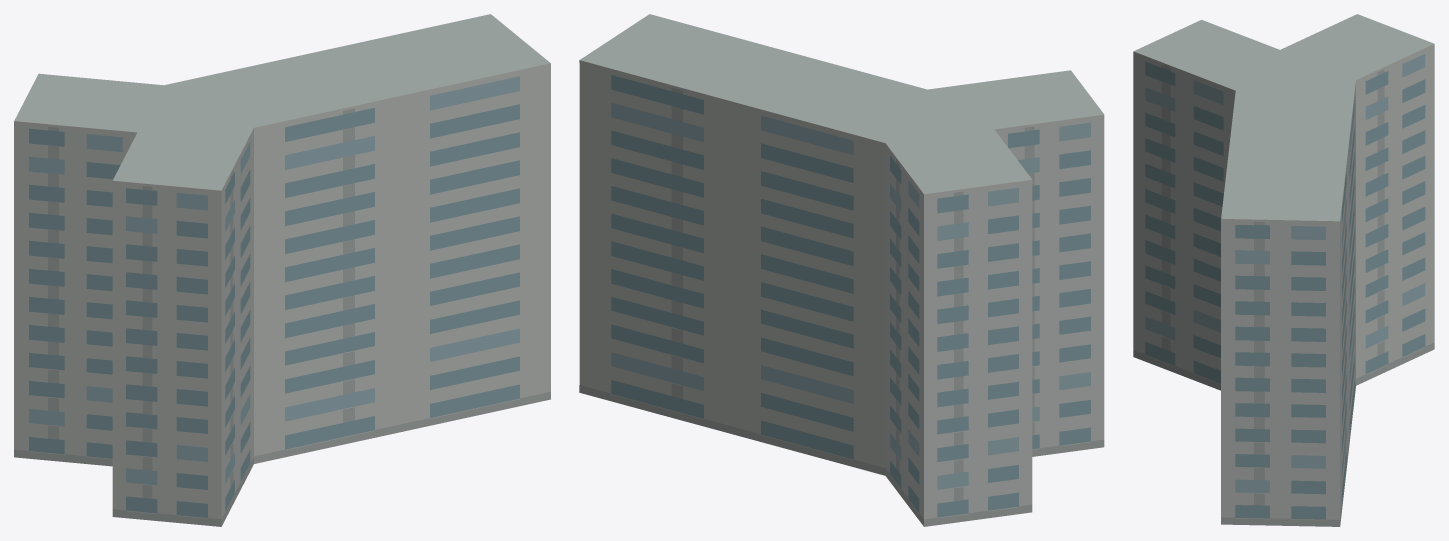
Rendered from residential-02759c44-1c9a-4087-87b1-60e91b323d4e.glb.
The picture shows the model from 3 angles, left to right: view 1: azimuth 30°, elevation 25°; view 2: azimuth 150°, elevation 25°; view 3: azimuth 270°, elevation 25°; orthographic projection. The views are drawn at different scales.
Visible parts, largest first — view 1: residential-02759c44-1c9a-4087-87b1-60e91b323d4e.tmp; view 2: residential-02759c44-1c9a-4087-87b1-60e91b323d4e.tmp; view 3: residential-02759c44-1c9a-4087-87b1-60e91b323d4e.tmp.
Boxes of the visible parts, box(x1,y1,x2,y2) form: residential-02759c44-1c9a-4087-87b1-60e91b323d4e.tmp: box(14, 14, 550, 526); residential-02759c44-1c9a-4087-87b1-60e91b323d4e.tmp: box(579, 14, 1104, 526); residential-02759c44-1c9a-4087-87b1-60e91b323d4e.tmp: box(1133, 14, 1434, 526).
Bounding box in the file's own units: 48 × 33 × 29.48.
